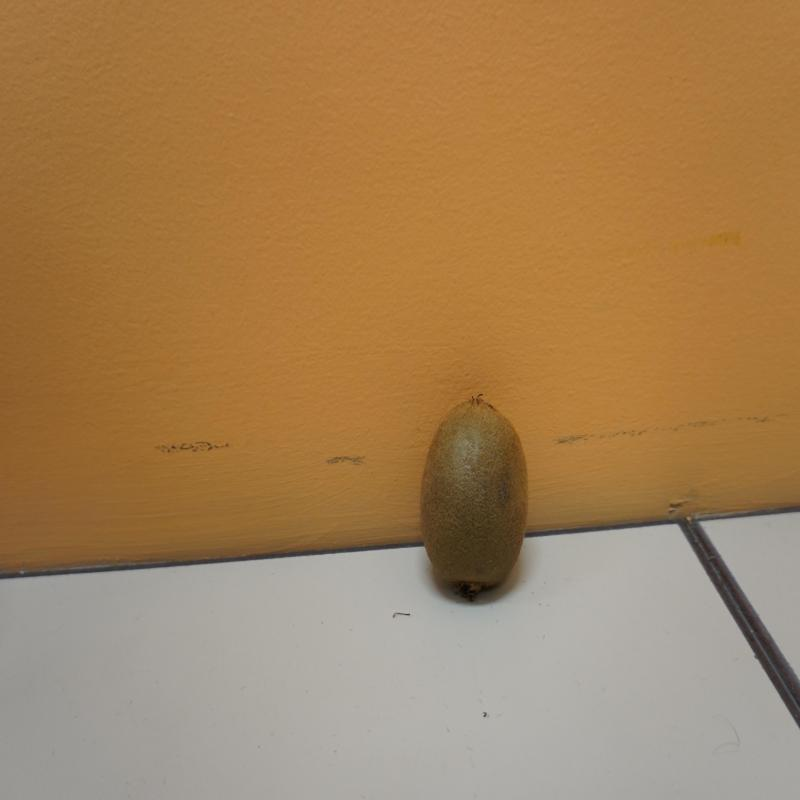Kiwi: (420, 397, 530, 606)
